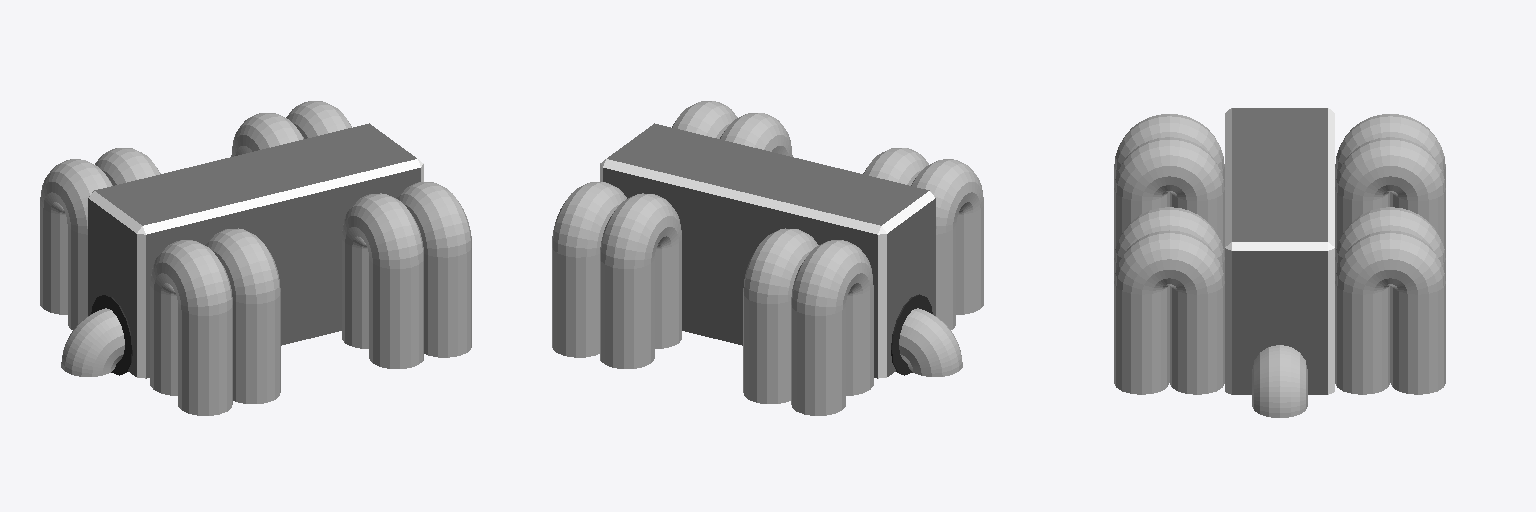
File: condenser.obj
3 renders of one model, left to right at view 1: azimuth 30°, elevation 25°; view 2: azimuth 150°, elevation 25°; view 3: azimuth 270°, elevation 25°, orthographic.
Parts seen in each view (by area): view 1: condenser; view 2: condenser; view 3: condenser.
Part boxes in pixels (x1,y1,x2,y2): condenser: (40,101,471,415); condenser: (552,101,983,415); condenser: (1114,108,1445,417).
Bounding box in the file's own units: 8 × 3.25 × 6.